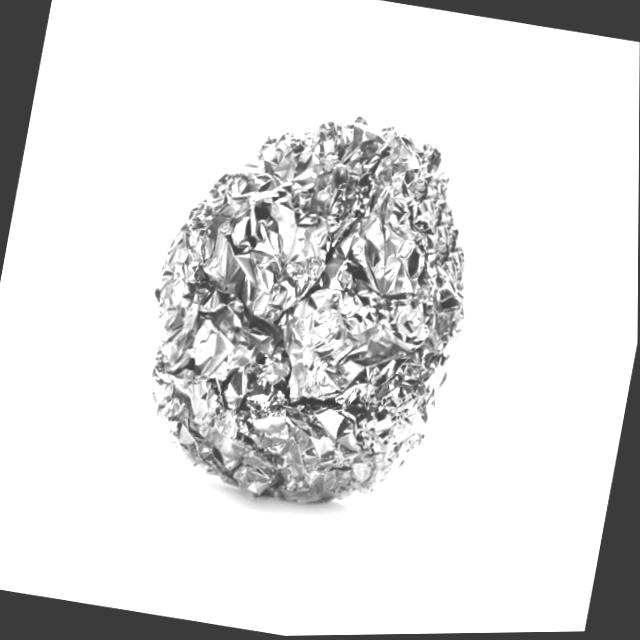Foil: (68, 49, 543, 569)
